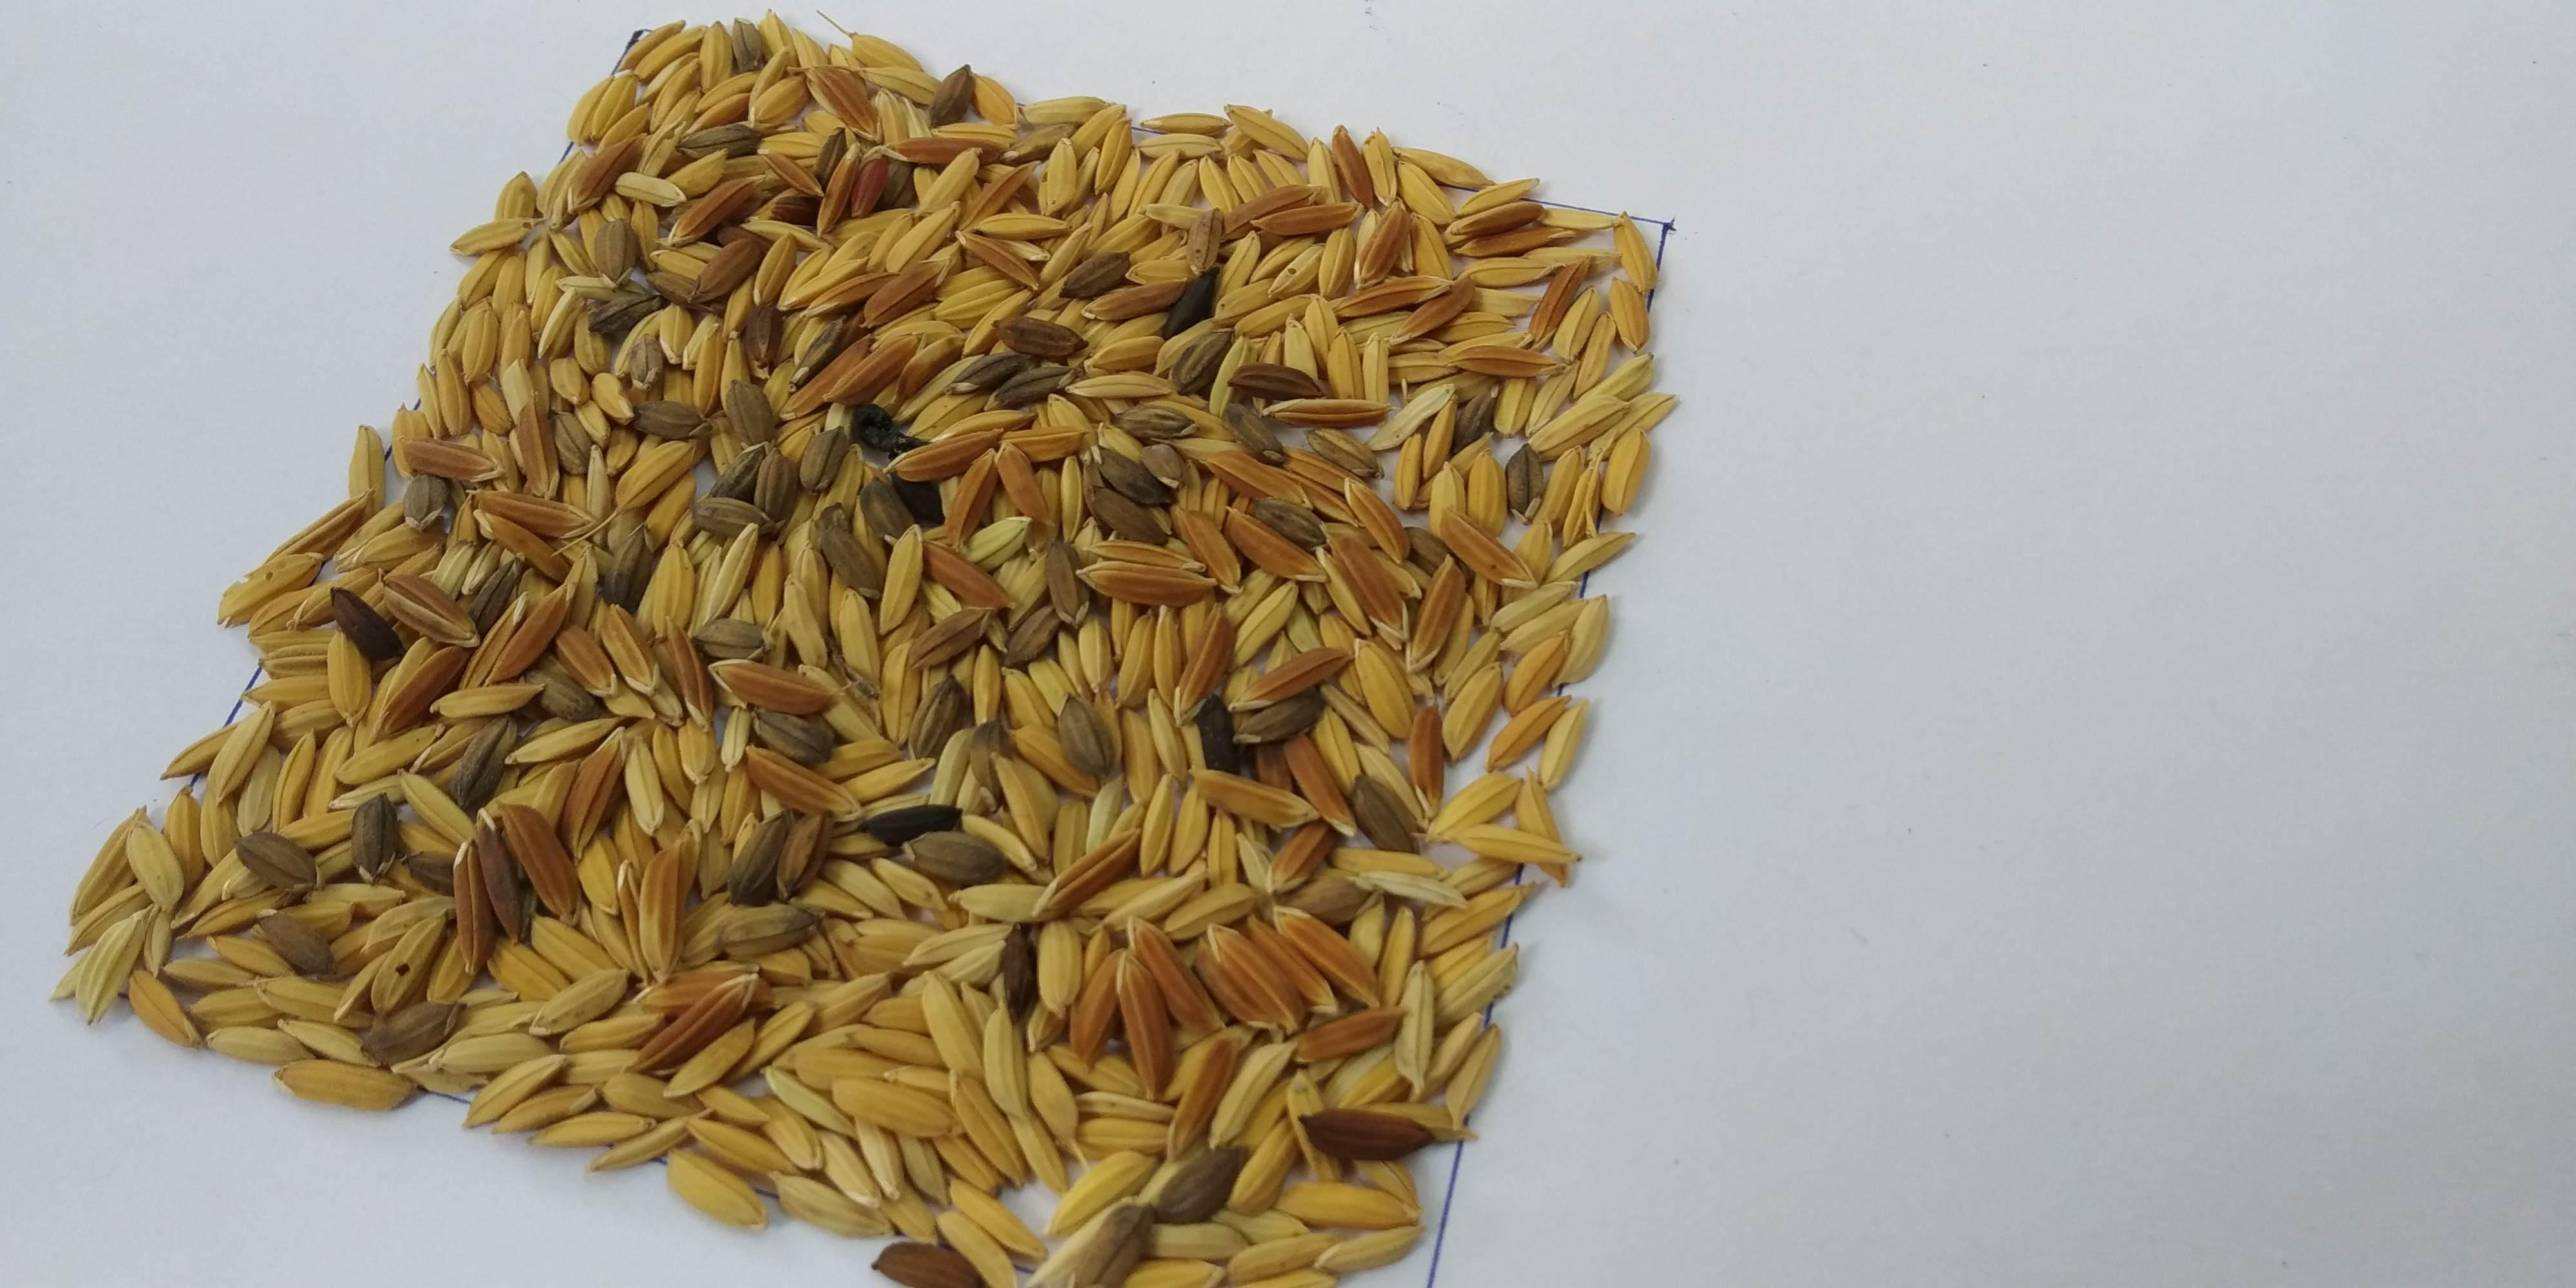impure: (480, 232, 1449, 1163)
